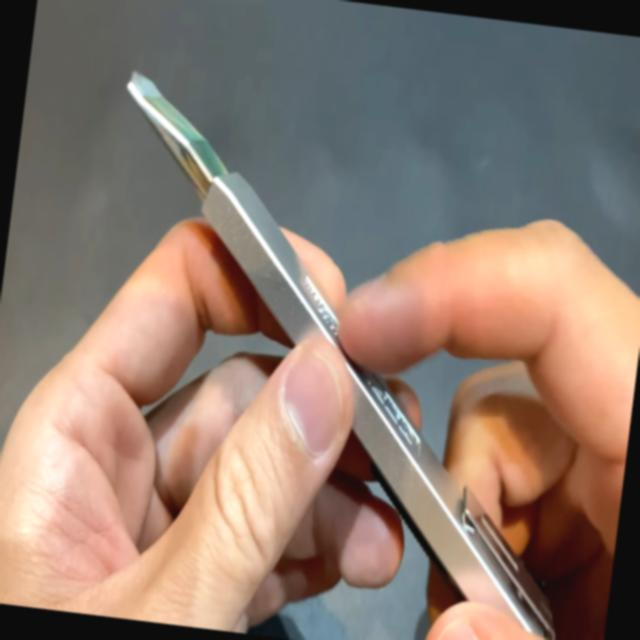cutter: (32, 23, 640, 631)
